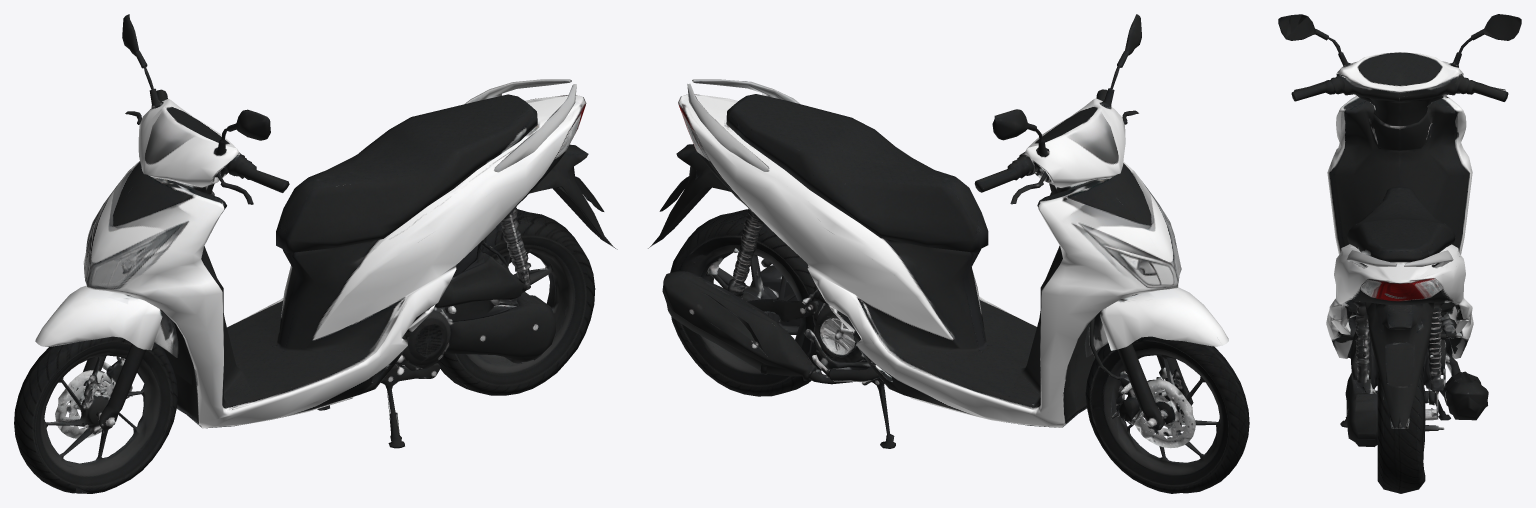
The model's file is motor_matic.glb.
3 renders of one model, left to right at view 1: azimuth 30°, elevation 25°; view 2: azimuth 150°, elevation 25°; view 3: azimuth 270°, elevation 25°, orthographic. The views are drawn at different scales.
Bounding box in the file's own units: 0.9575 × 0.6157 × 0.3979.
1 material, 1 textured.
